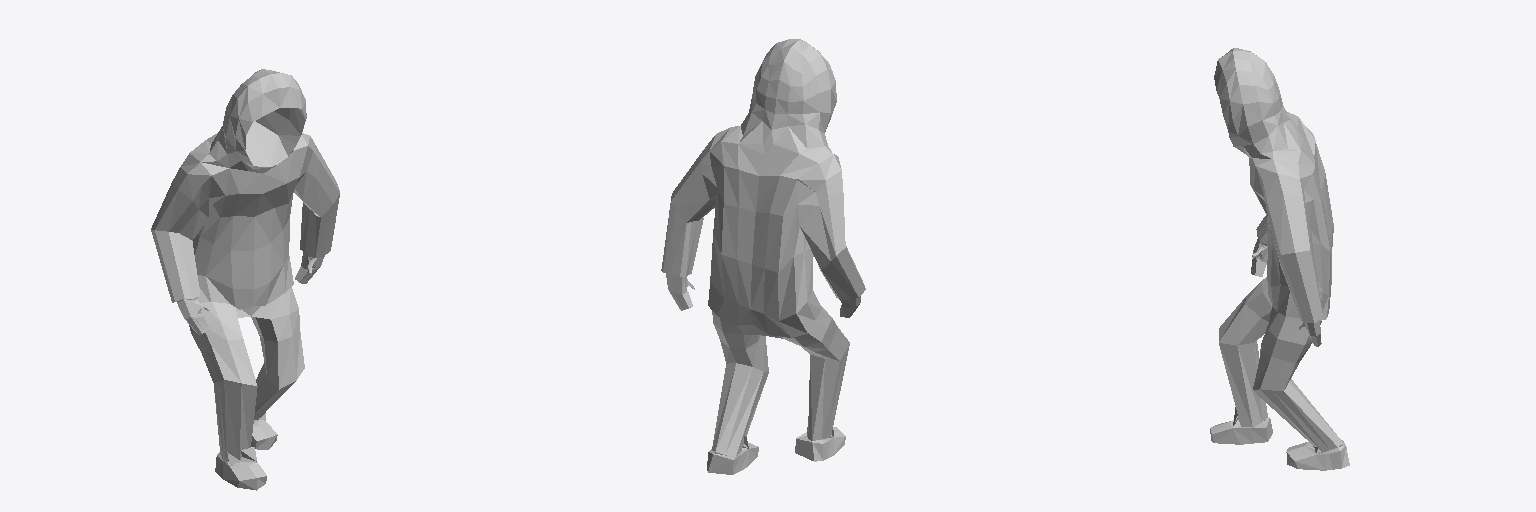
File: Shadowmanv_000049.obj
3 renders of one model, left to right at view 1: azimuth 30°, elevation 25°; view 2: azimuth 150°, elevation 25°; view 3: azimuth 270°, elevation 25°, orthographic.
Visible parts, largest first — view 1: Cube.000; view 2: Cube.000; view 3: Cube.000.
Boxes of the visible parts, x1=… form: Cube.000: x1=151, y1=69, x2=339, y2=490; Cube.000: x1=661, y1=39, x2=865, y2=474; Cube.000: x1=1210, y1=48, x2=1349, y2=470.
Size of the model in its own units: 5.09 by 10.95 by 3.44.